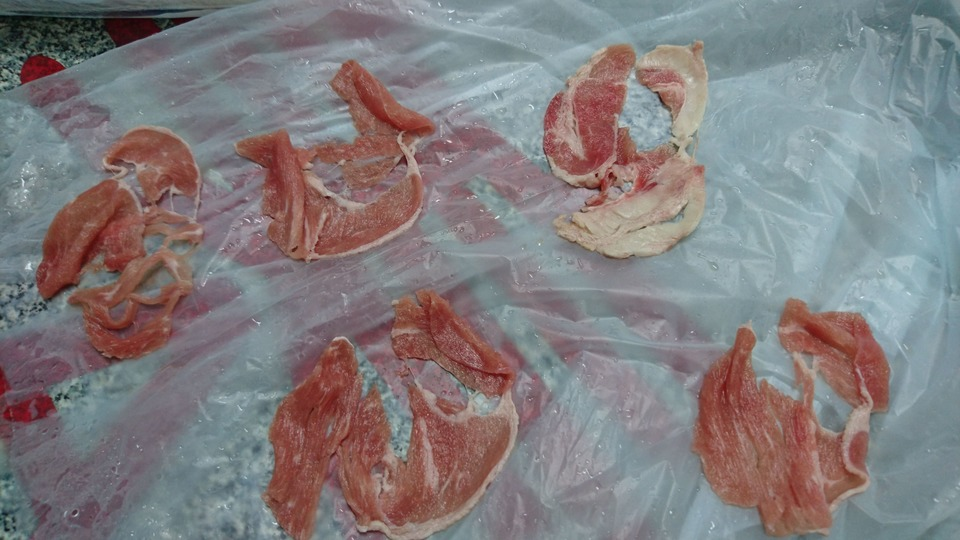restructured meat: (266, 297, 530, 540), (690, 290, 889, 533), (25, 123, 224, 366), (237, 54, 436, 297), (542, 40, 713, 257)
